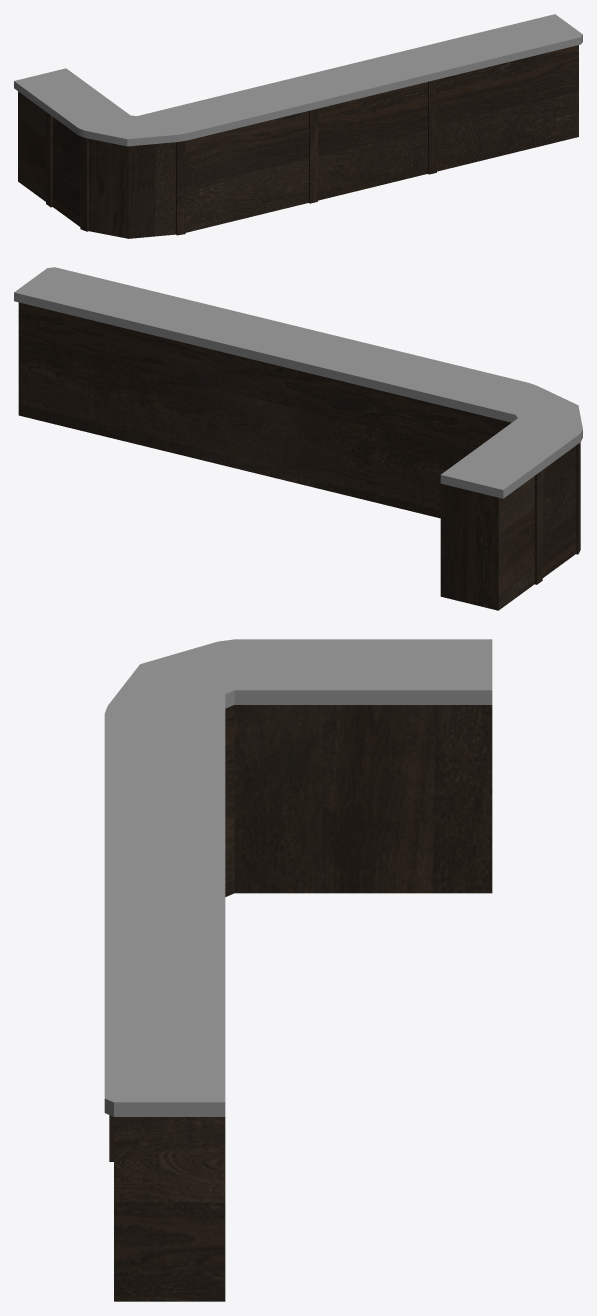
The model's file is NewBar.FBX.
The picture shows the model from 3 angles, top to bottom: view 1: azimuth 30°, elevation 25°; view 2: azimuth 150°, elevation 25°; view 3: azimuth 270°, elevation 25°; orthographic projection. The views are drawn at different scales.
Visible parts, largest first — view 1: Box001; view 2: Box001; view 3: Box001.
Boxes of the visible parts, bbox=[...] form: Box001: bbox=[14, 14, 582, 238]; Box001: bbox=[14, 267, 582, 610]; Box001: bbox=[104, 639, 492, 1301].
Size of the model in its own units: 295 by 60.41 by 104.
